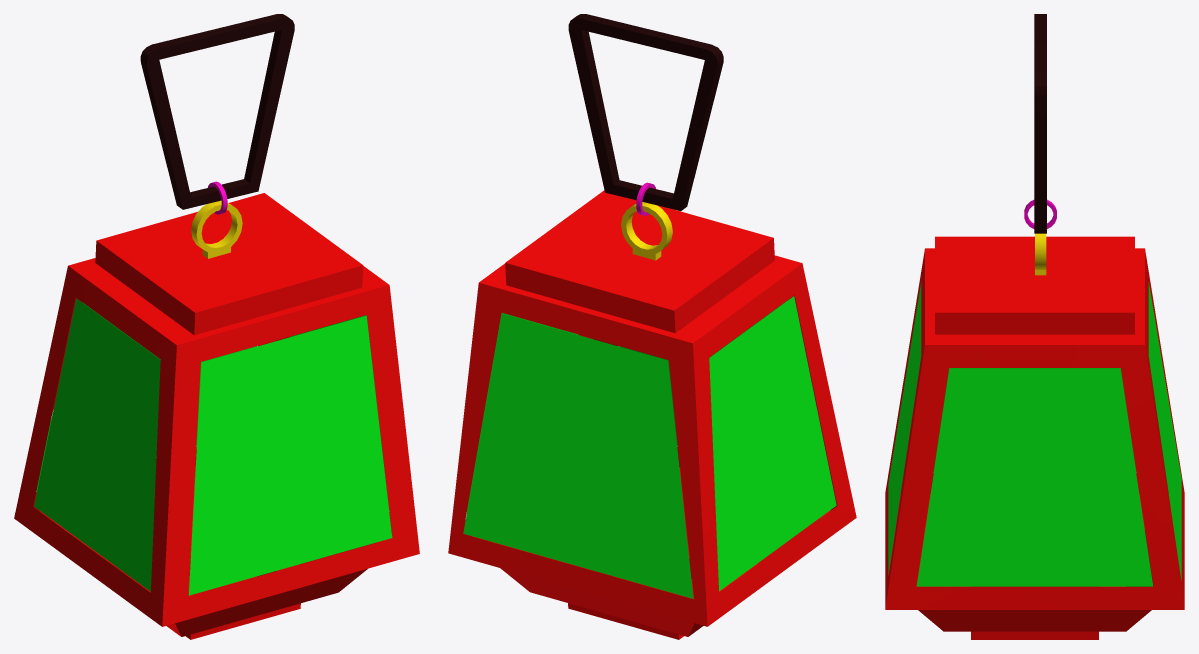
File: lantern.FBX
3 renders of one model, left to right at view 1: azimuth 30°, elevation 25°; view 2: azimuth 150°, elevation 25°; view 3: azimuth 270°, elevation 25°, orthographic.
Parts seen in each view (by area): view 1: glass, body_low, handle_low, metal_ring_1_low; view 2: glass, body_low, handle_low, metal_ring_1_low; view 3: body_low, glass, handle_low, metal_ring_1_low.
Part boxes in pixels (left/top/right/bottom): glass: left=34, top=298, right=392, bottom=595; body_low: left=14, top=193, right=419, bottom=639; handle_low: left=140, top=14, right=294, bottom=209; metal_ring_1_low: left=191, top=200, right=242, bottom=258; glass: left=463, top=296, right=836, bottom=598; body_low: left=448, top=190, right=856, bottom=639; handle_low: left=568, top=14, right=723, bottom=210; metal_ring_1_low: left=621, top=202, right=672, bottom=260; body_low: left=885, top=236, right=1184, bottom=639; glass: left=888, top=282, right=1181, bottom=586; handle_low: left=1034, top=14, right=1046, bottom=233; metal_ring_1_low: left=1035, top=233, right=1046, bottom=275.
Bounding box in the file's own units: 16.46 × 34.7 × 16.4.
